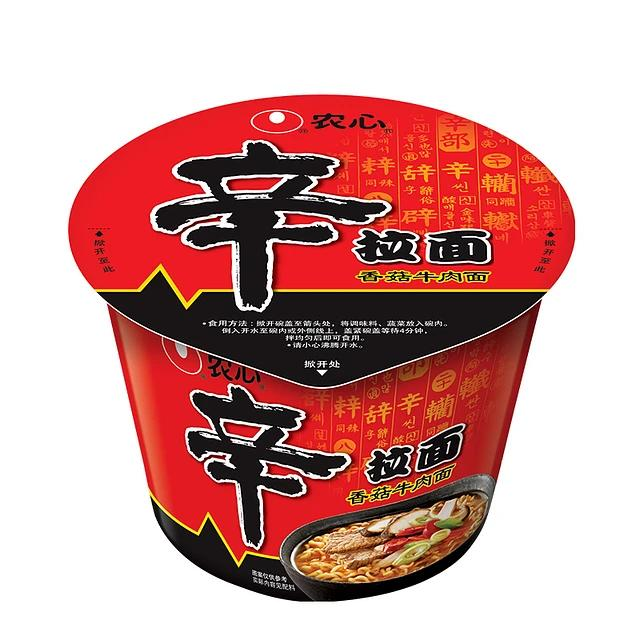instant_noodle: (57, 89, 569, 598)
